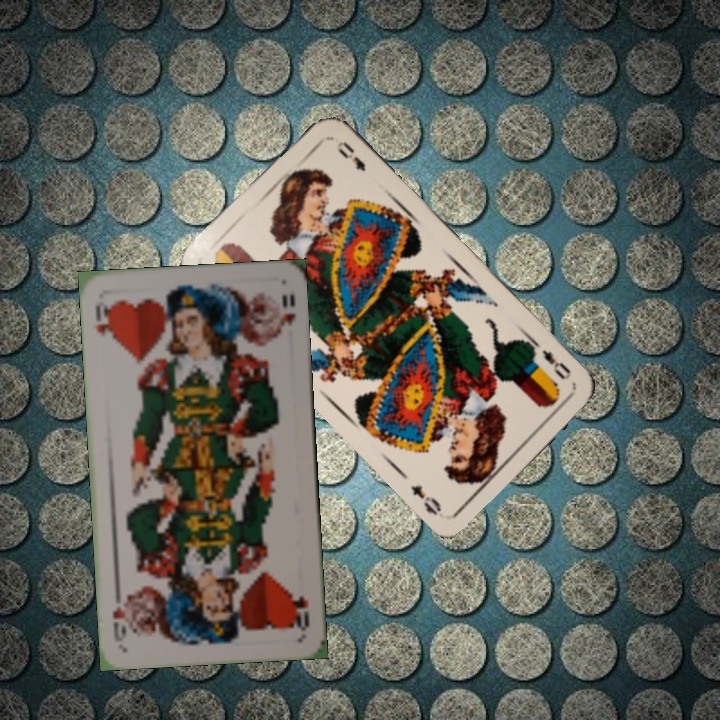EO: (537, 345, 574, 382)
HO: (289, 588, 313, 633), (91, 298, 115, 342)
